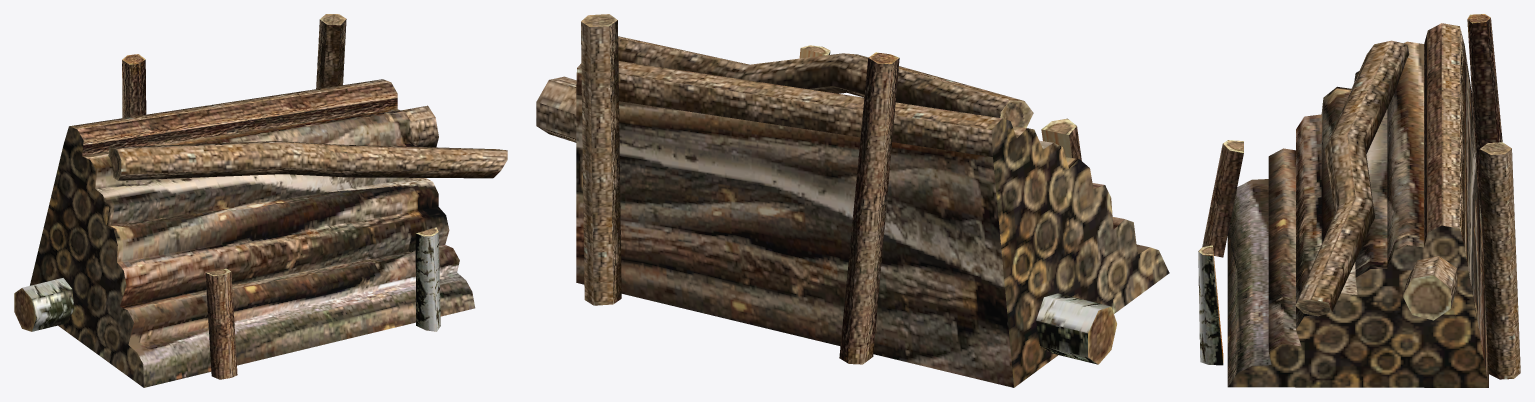
File: firewood.glb
The picture shows the model from 3 angles, left to right: view 1: azimuth 30°, elevation 25°; view 2: azimuth 150°, elevation 25°; view 3: azimuth 270°, elevation 25°; orthographic projection. The views are drawn at different scales.
Parts seen in each view (by area): view 1: firewood; view 2: firewood; view 3: firewood.
Part boxes in pixels (<box>): firewood: <box>14,14,507,387</box>; firewood: <box>536,14,1169,387</box>; firewood: <box>1198,14,1520,387</box>.
Bounding box in the file's own units: 3.2 × 1.58 × 1.85.
Materials: 2 (2 with a texture image).
